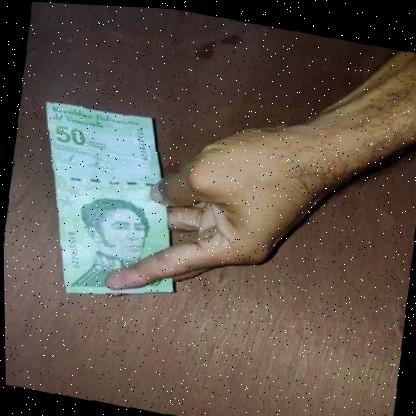fifty-front-vef: (16, 94, 199, 315)
